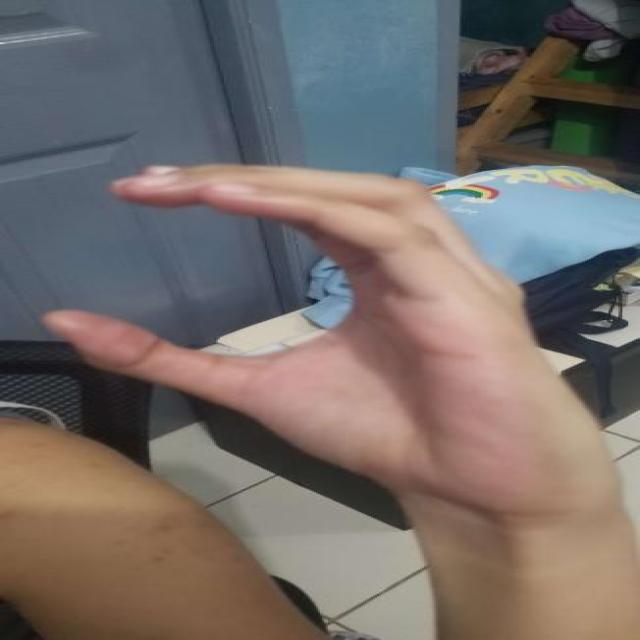C: (43, 157, 640, 492)
